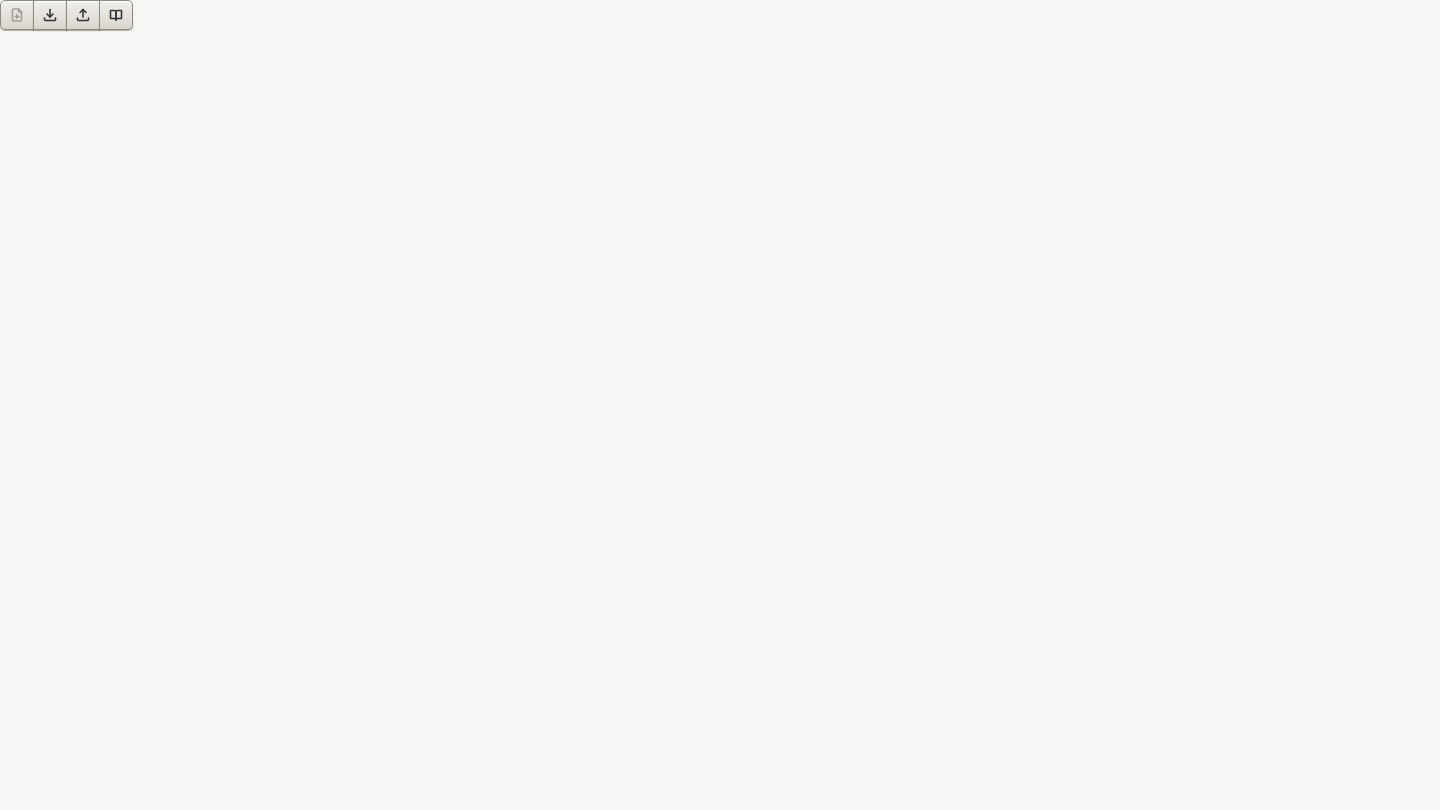
it: PatchFileControls › examples › lists the examples, each with what it does and what it needs to be heard
Click the button named "Examples" at (116, 15), box [99,0,133,30]
(page scrolled)
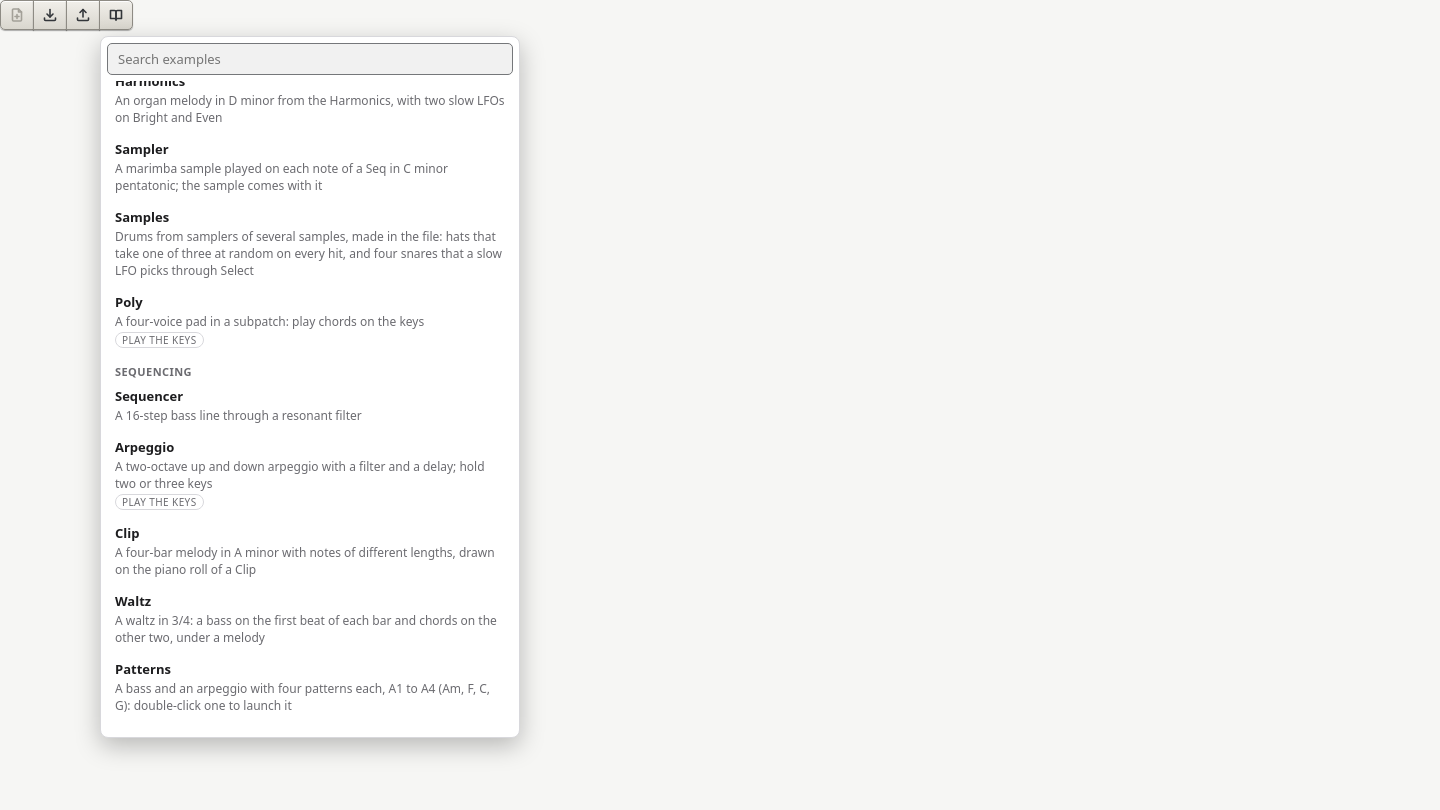
Expected: the button "Sequencer A 16-step bass line through a resonant filter" does not show "Play the keys", [107,381,513,430]
Now the button "Sequencer A 16-step bass line through a resonant filter" is shown, box [107,381,513,430]
